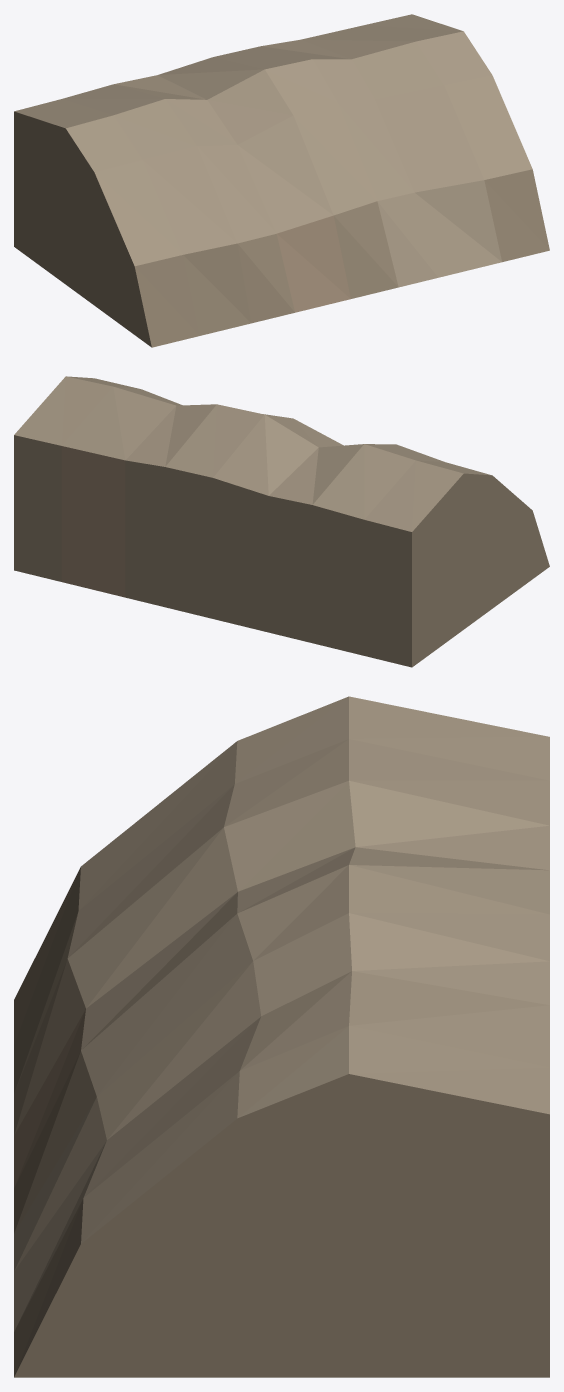
File: coast_rock_straight_low.glb
3 views of the same model, one above another, from view 1: azimuth 30°, elevation 25°; view 2: azimuth 150°, elevation 25°; view 3: azimuth 270°, elevation 25° (orthographic). The views are drawn at different scales.
Parts seen in each view (by area): view 1: coast_rock_straight_low; view 2: coast_rock_straight_low; view 3: coast_rock_straight_low.
Boxes of the visible parts, x1,y1,x2,y2 form: coast_rock_straight_low: (14, 14, 549, 347); coast_rock_straight_low: (14, 376, 549, 667); coast_rock_straight_low: (14, 696, 549, 1377).
Bounding box in the file's own units: 2 × 0.8 × 1.2.
